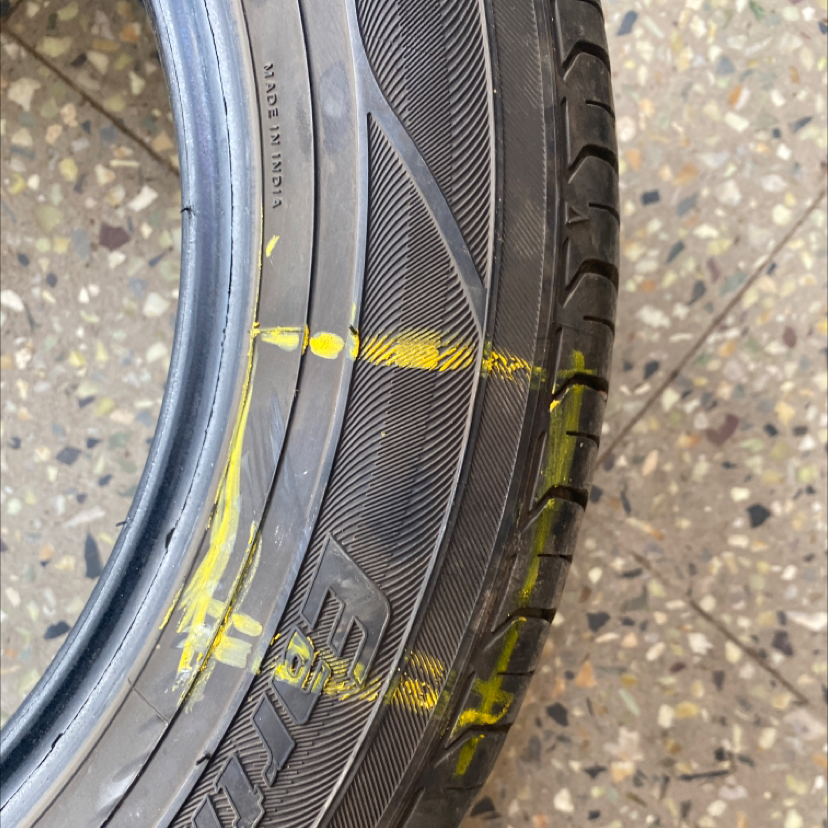CBU: (322, 412, 481, 608)
